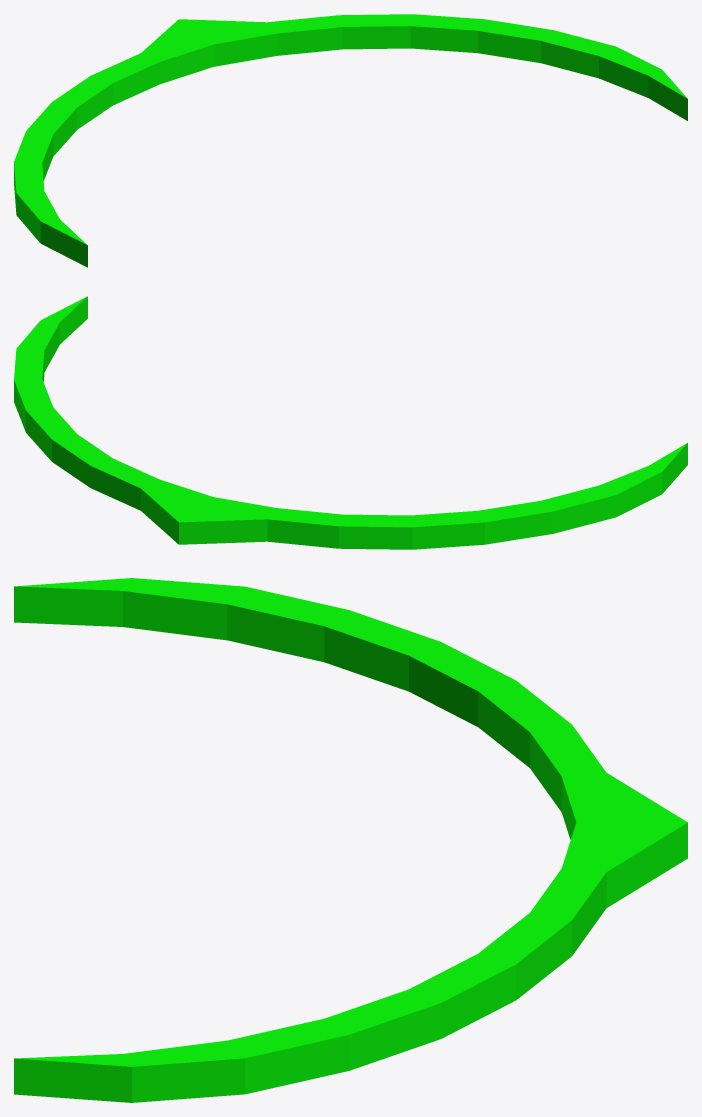
Rendered from navMarker.fbx.
3 views of the same model, one above another, from view 1: azimuth 30°, elevation 25°; view 2: azimuth 150°, elevation 25°; view 3: azimuth 270°, elevation 25° (orthographic). The views are drawn at different scales.
Visible parts, largest first — view 1: Cylinder; view 2: Cylinder; view 3: Cylinder.
Boxes of the visible parts, left/top/right/bottom form: Cylinder: left=14, top=14, right=687, bottom=267; Cylinder: left=14, top=296, right=687, bottom=549; Cylinder: left=14, top=578, right=687, bottom=1102.
Size of the model in its own units: 254 by 8.75 by 148.
